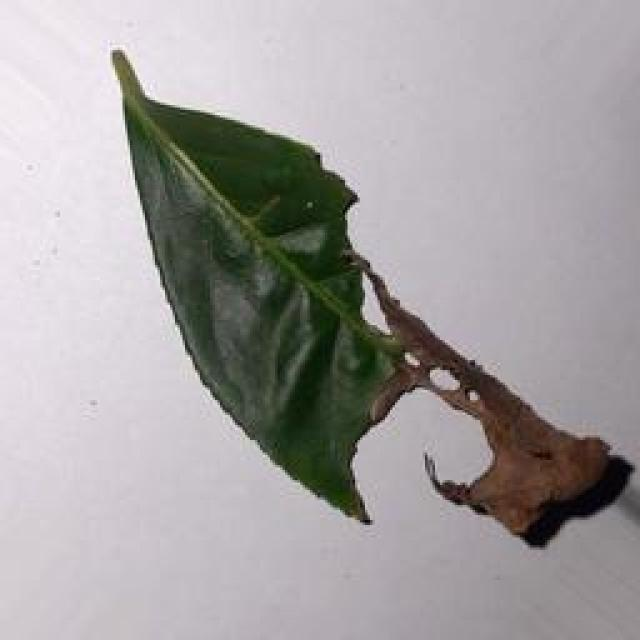Brown Blight: (91, 31, 635, 541)
